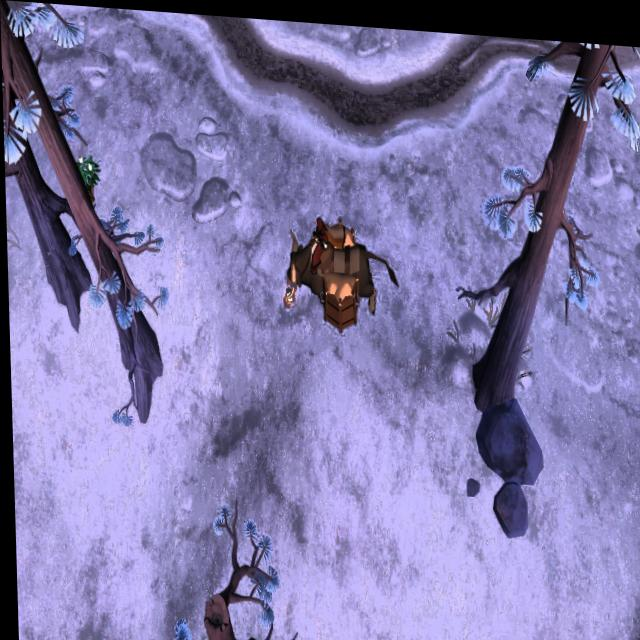fiber_t3: (70, 148, 101, 205)
